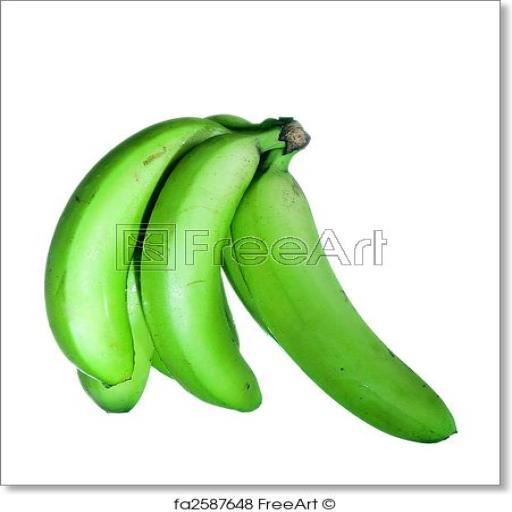banana-unripe: (0, 64, 500, 465)
